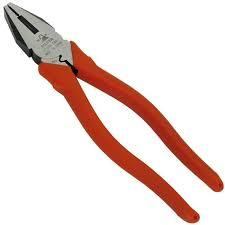pliers: (1, 1, 224, 224)
